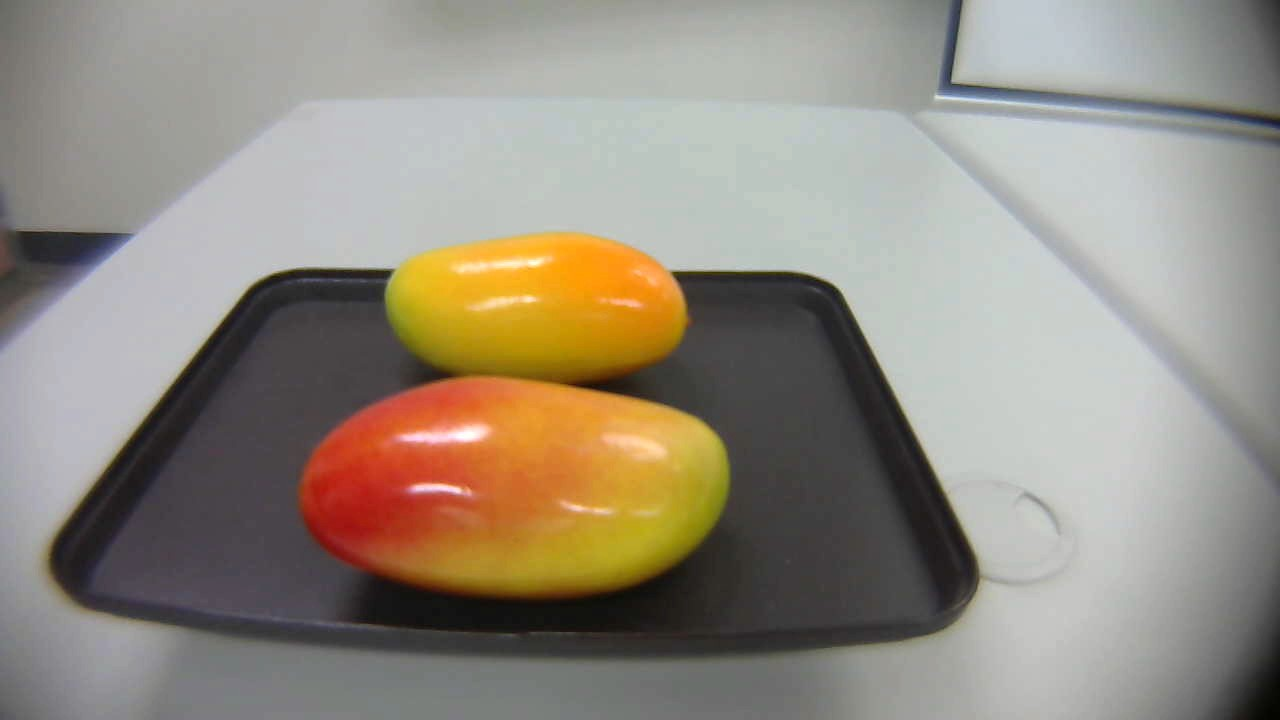red mango: (289, 369, 775, 605)
yellow mango: (373, 234, 712, 390)
